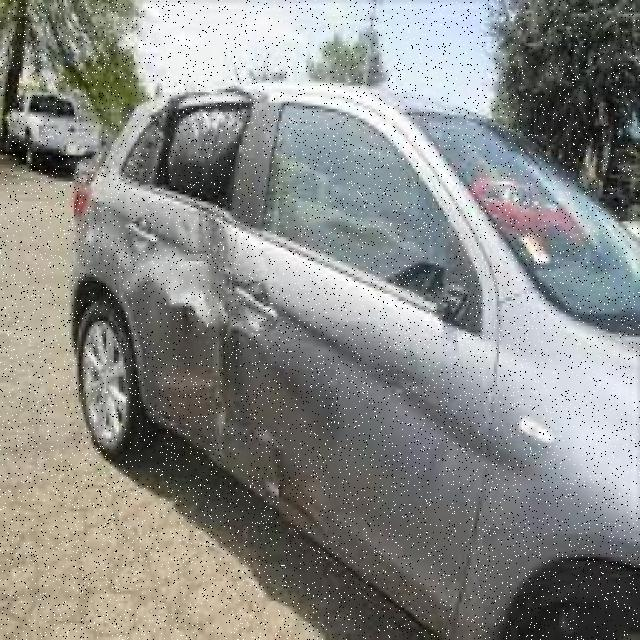damage: (86, 78, 492, 618)
